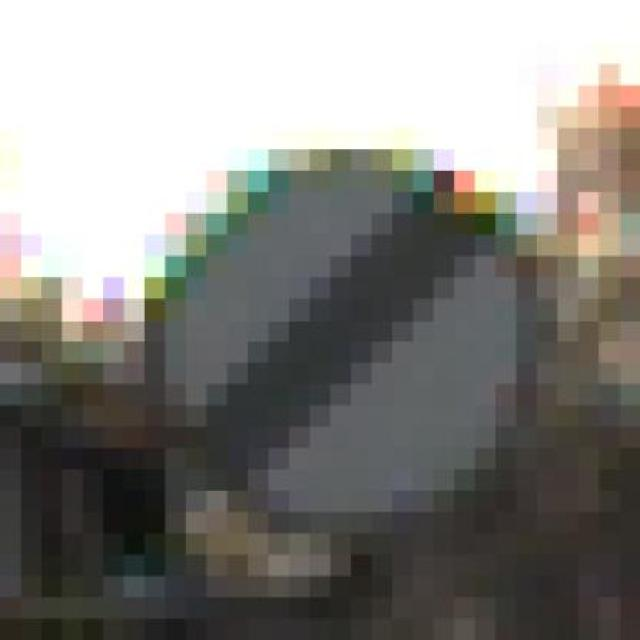End of all speed and passing limits: (103, 107, 557, 555)
